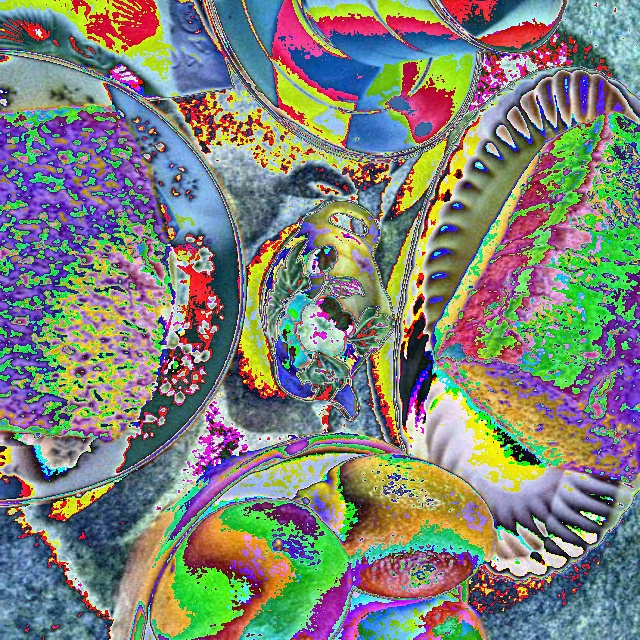background: (206, 109, 638, 483), (148, 188, 496, 639), (0, 104, 175, 442)
